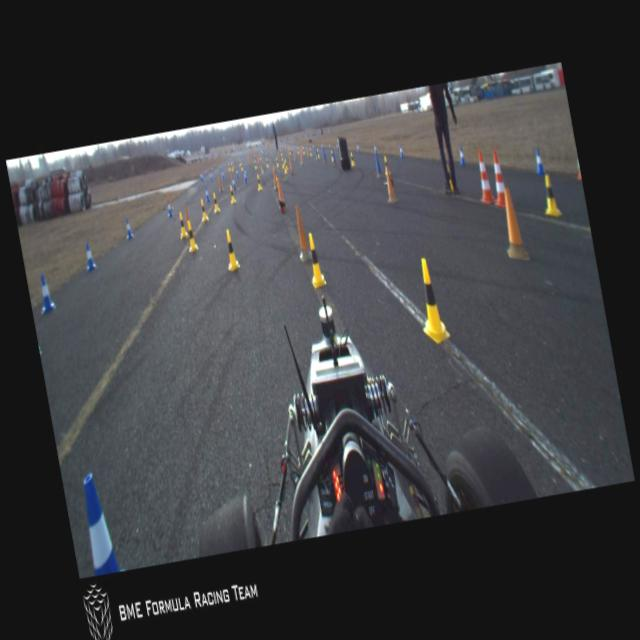blue_cone: (76, 470, 120, 574), (34, 270, 56, 314), (530, 143, 546, 180), (81, 240, 96, 270), (456, 144, 466, 166), (122, 215, 132, 237), (164, 198, 173, 217), (397, 142, 405, 160), (203, 186, 210, 202), (230, 178, 237, 190), (242, 170, 248, 183), (243, 167, 248, 180), (234, 168, 240, 176), (209, 170, 213, 182), (355, 144, 360, 152), (220, 170, 224, 180), (198, 170, 202, 180), (210, 164, 214, 174), (204, 166, 207, 176), (200, 172, 203, 180), (228, 158, 231, 166), (218, 162, 220, 172)
large_orange_cone: (470, 146, 496, 208), (486, 148, 508, 205)
yellow_cone: (409, 254, 452, 345), (303, 230, 327, 290), (537, 168, 562, 223), (221, 226, 241, 274), (442, 160, 457, 194), (184, 218, 199, 252), (176, 210, 188, 240), (381, 150, 392, 177), (198, 198, 208, 222), (210, 192, 220, 214), (348, 148, 356, 168), (227, 184, 235, 203), (255, 172, 262, 190), (329, 150, 334, 161), (283, 162, 287, 174), (275, 156, 279, 168), (284, 158, 288, 169), (316, 148, 320, 159), (280, 158, 284, 167), (265, 158, 269, 167)
